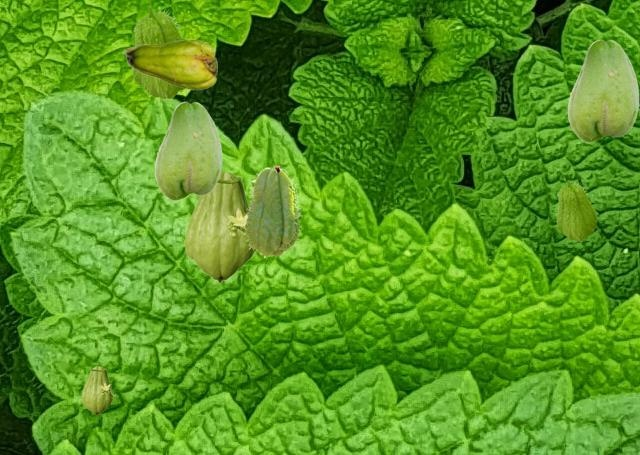sayote: (184, 171, 256, 282), (567, 39, 638, 141), (154, 101, 221, 199), (243, 165, 301, 258), (131, 5, 184, 98), (122, 39, 216, 89), (555, 179, 597, 240), (81, 366, 115, 414)
